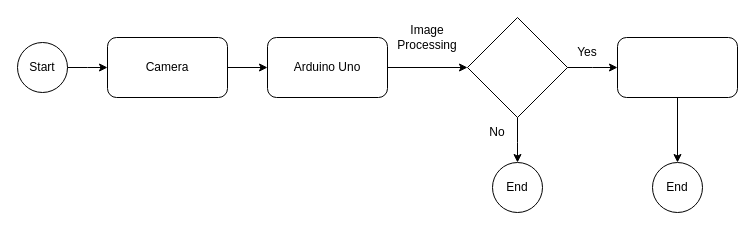
Image size: 755x230. Some labels were removed from this diagram. The shapes that lost their labels are listed below. From the top down, each one's centre as x and y in pixels, then its label:
At [517,67]: "Drowsiness Detected".
At [677,67]: "LED and Buzzer will turn on".
